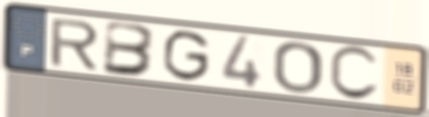4: (219, 33, 265, 91)
B: (100, 18, 160, 79)
C: (326, 44, 383, 103)
G: (160, 28, 214, 84)
O: (271, 40, 326, 96)
R: (47, 17, 102, 71)
